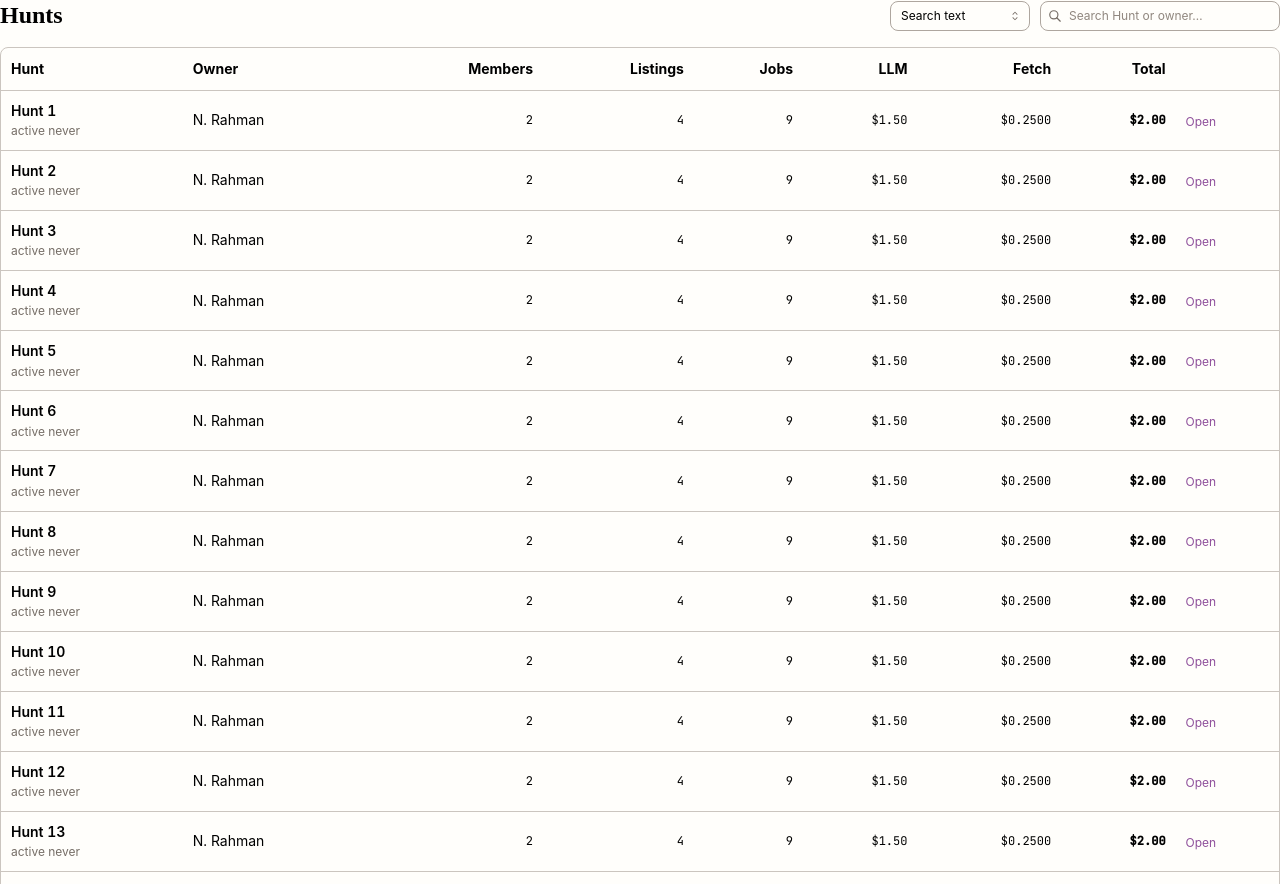
Test case: AdminHuntsPage › names a Hunt deletion blocker and never sends the delete
The width and height of the screenshot is (1280, 884).
Click the text "Hunt 1": (34, 110) [11, 102, 56, 119]
(page scrolled)
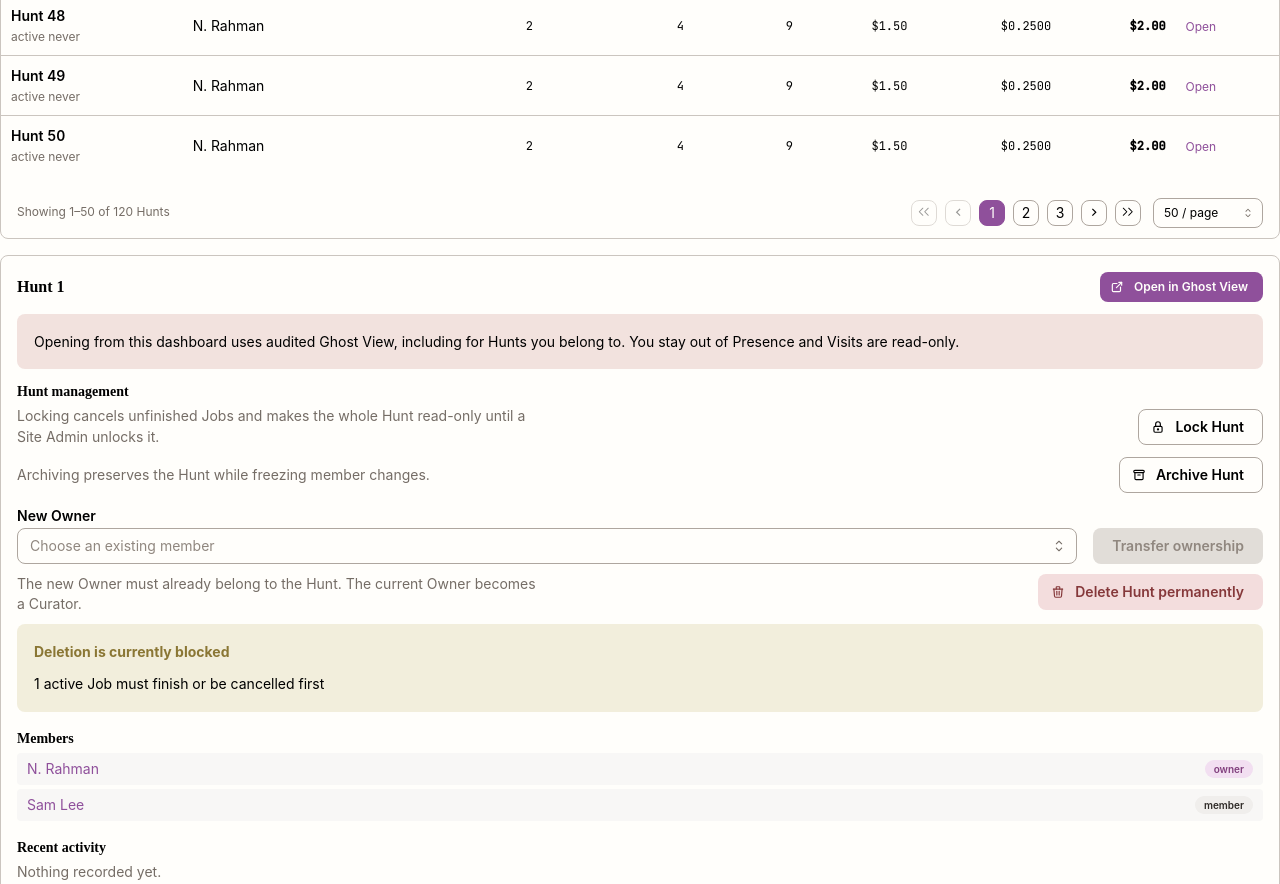
Result: the text "1 active Job must finish or be cancelled first" is shown at [34, 675, 324, 692]
Click the button "Delete Hunt permanently": (1151, 592) [1038, 574, 1263, 610]
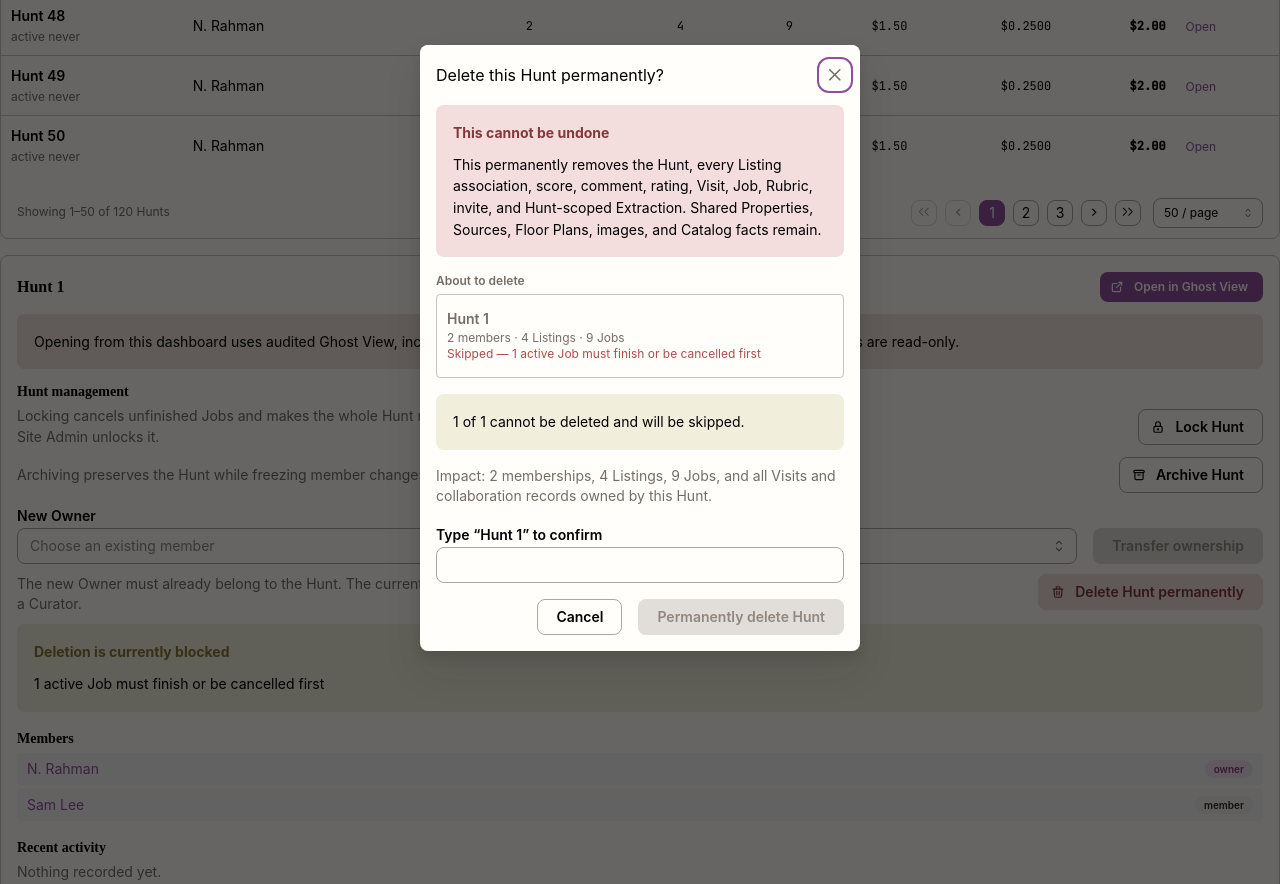
Result: the text "Skipped — 1 active Job must finish or be cancelled first" is shown at [447, 346, 761, 361]
Result: the button "Permanently delete Hunt" is disabled at [638, 599, 844, 635]
